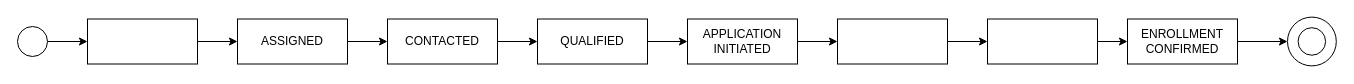
The diagram is 1354 pixels wide and 84 high, and some of its shapes have lost their labels. Here are the shapes that lost their labels. From the top down, the centre of each, then its label:
At pixel 142 41: "NEW LEAD".
At pixel 892 41: "DOCUMENTS COMPLETE".
At pixel 1042 41: "OFFER ISSUED".
